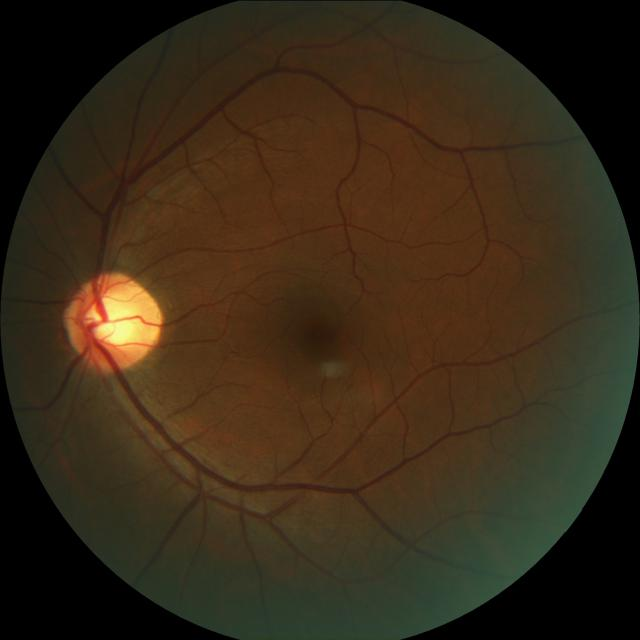OC: (83, 291, 140, 347)
OD: (64, 270, 161, 369)
